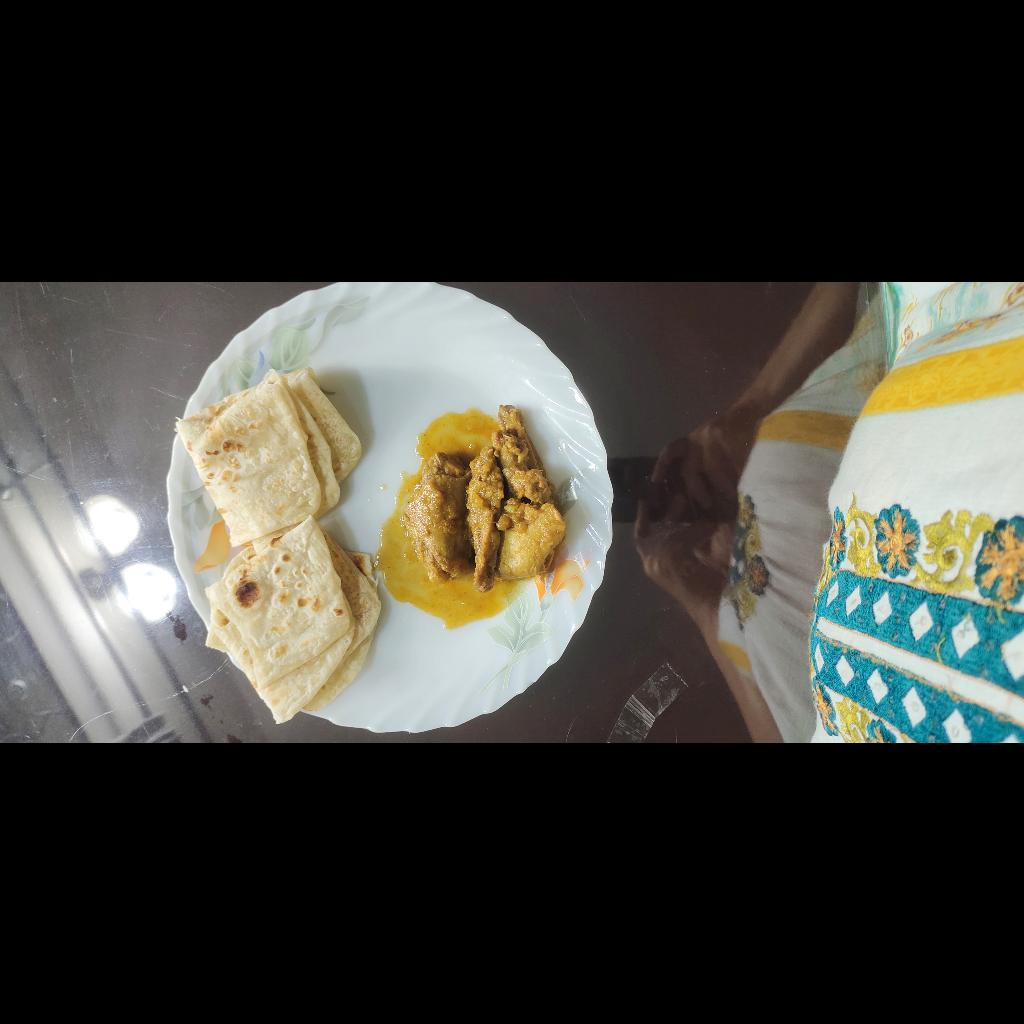chicken: (116, 653, 340, 846)
ruti: (14, 444, 378, 666)
